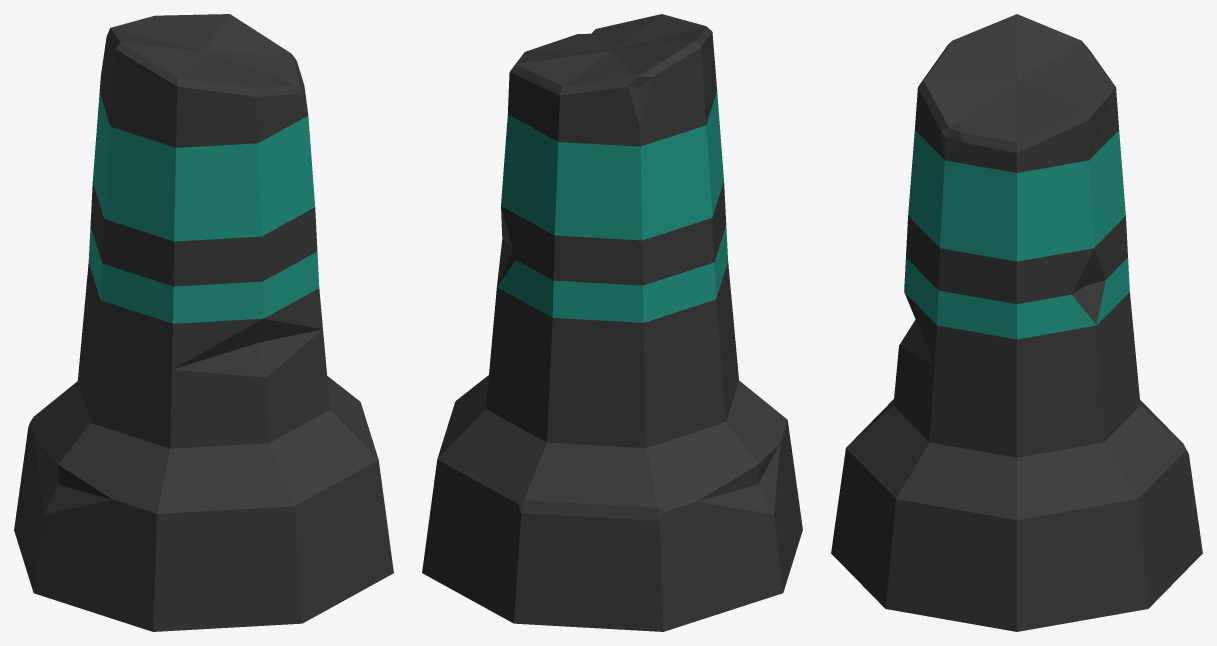
File: Column_Short_Broken01_FBX.fbx
3 views of the same model, side by side, from view 1: azimuth 30°, elevation 25°; view 2: azimuth 150°, elevation 25°; view 3: azimuth 270°, elevation 25° (orthographic). The views are drawn at different scales.
Visible parts, largest first — view 1: Pillar003; view 2: Pillar003; view 3: Pillar003.
Boxes of the visible parts, box(x1,y1,x2,y2) form: Pillar003: box(14, 14, 393, 631); Pillar003: box(422, 14, 802, 631); Pillar003: box(831, 14, 1202, 631).
Bounding box in the file's own units: 91.49 × 136 × 91.49.
